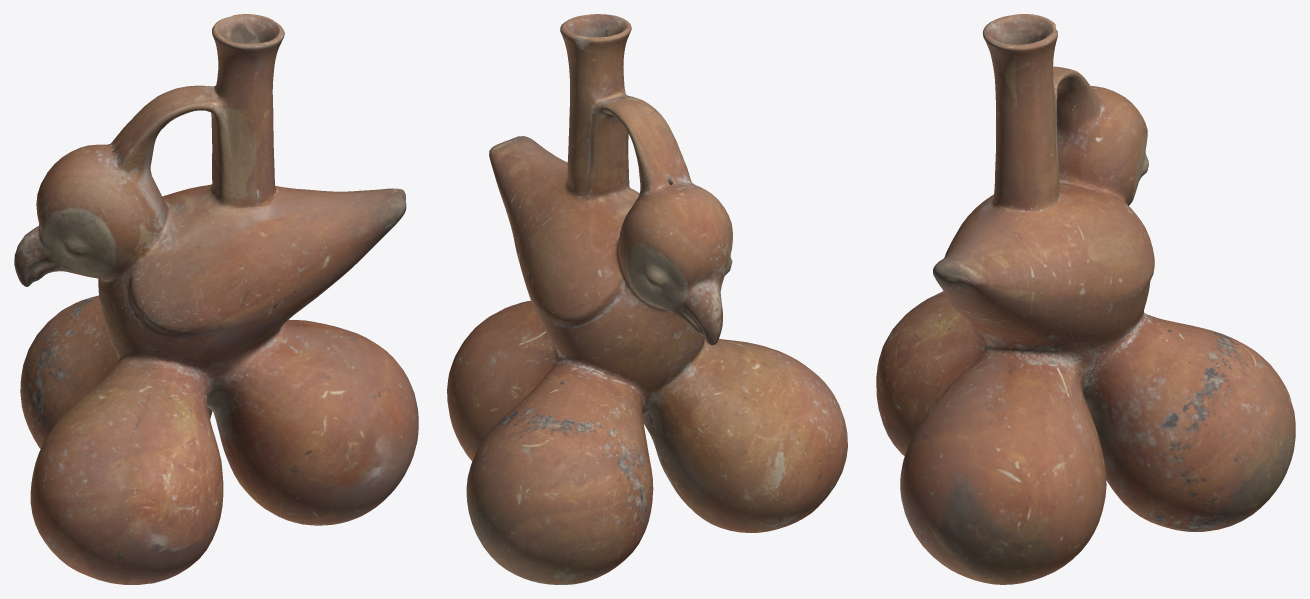
The model's file is whistling_bottle_as_bird_ecuador_1000-100bc.glb.
The picture shows the model from 3 angles, left to right: view 1: azimuth 30°, elevation 25°; view 2: azimuth 150°, elevation 25°; view 3: azimuth 270°, elevation 25°; orthographic projection. The views are drawn at different scales.
Parts seen in each view (by area): view 1: Object_2; view 2: Object_2; view 3: Object_2.
Part boxes in pixels (x1,y1,x2,y2): Object_2: (14, 14, 418, 584); Object_2: (447, 14, 847, 584); Object_2: (876, 14, 1295, 584).
Bounding box in the file's own units: 30.45 × 38.66 × 28.4.
1 material, 1 textured.
